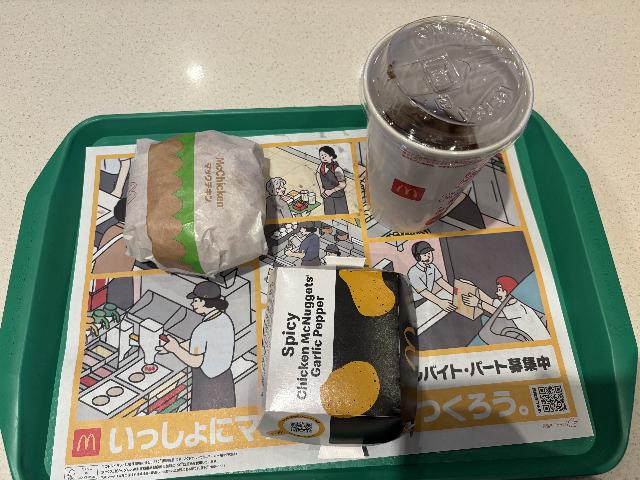burger: (125, 127, 272, 280)
drink: (359, 13, 535, 234)
nuggets: (258, 256, 419, 448)
